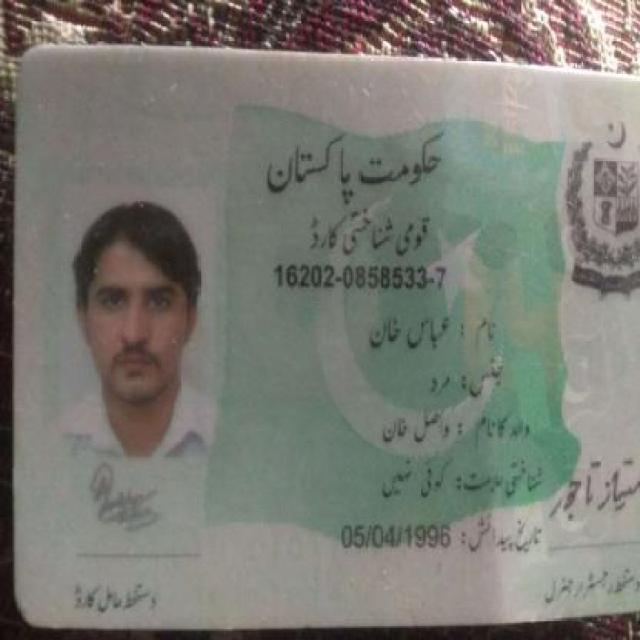Front: (15, 44, 632, 622)
